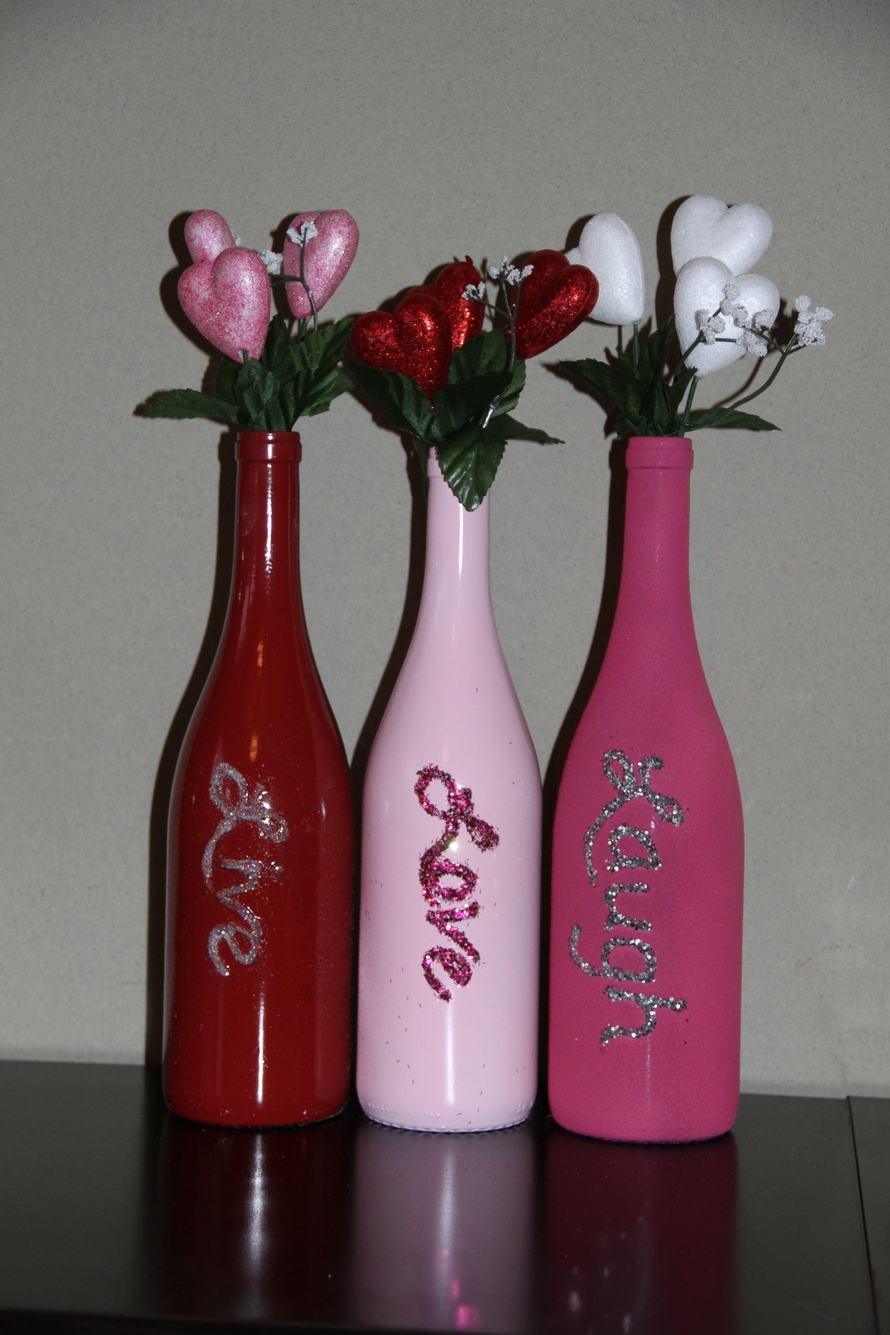bottle-glass: (537, 430, 750, 1149), (145, 421, 355, 1133), (345, 417, 547, 1135)
